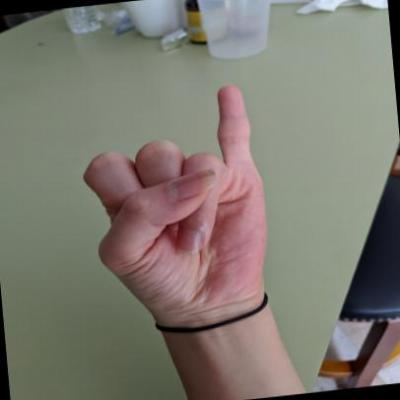hand: (71, 79, 282, 329)
